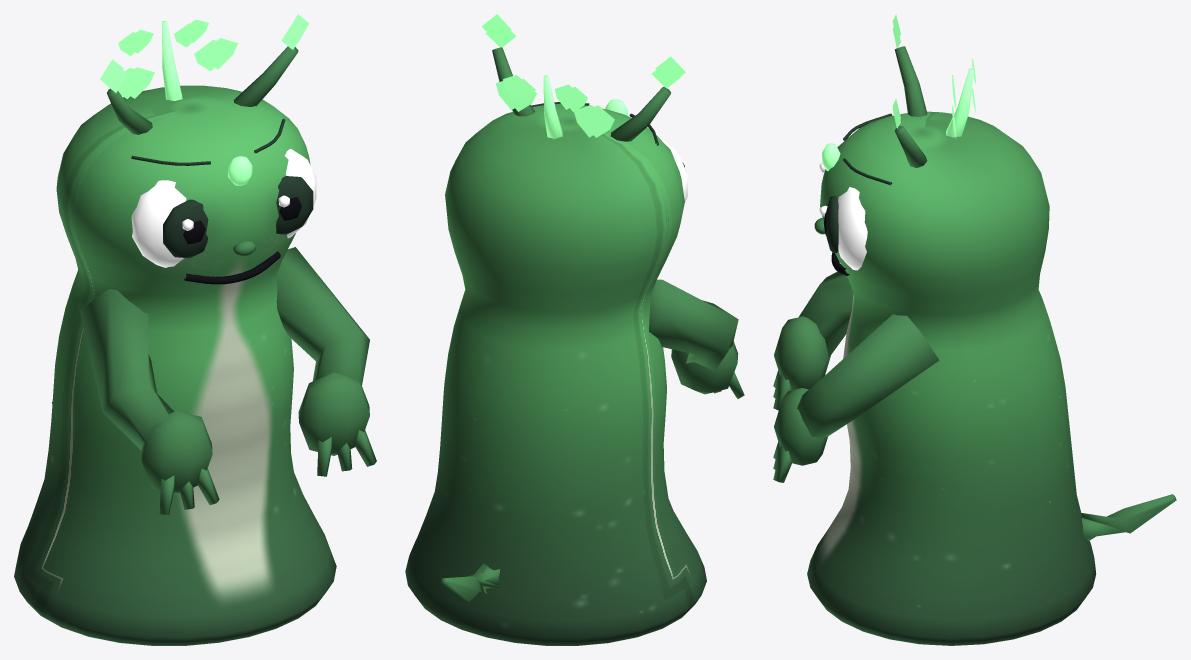
The model's file is selva_pixar.glb.
3 renders of one model, left to right at view 1: azimuth 30°, elevation 25°; view 2: azimuth 150°, elevation 25°; view 3: azimuth 270°, elevation 25°, orthographic. The views are drawn at different scales.
Parts seen in each view (by area): view 1: selva_cuerpo; view 2: selva_cuerpo; view 3: selva_cuerpo.
Boxes of the visible parts, <box> form: selva_cuerpo: <box>14,14,376,645</box>; selva_cuerpo: <box>405,14,744,645</box>; selva_cuerpo: <box>773,14,1176,645</box>.
Size of the model in its own units: 0.302 by 0.58 by 0.401.
5 materials, 1 textured.
